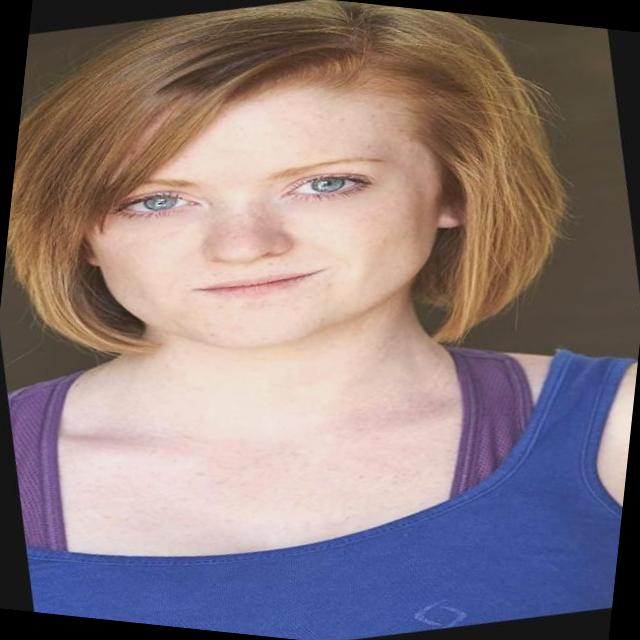freckle: (90, 153, 438, 320), (187, 72, 421, 200)
